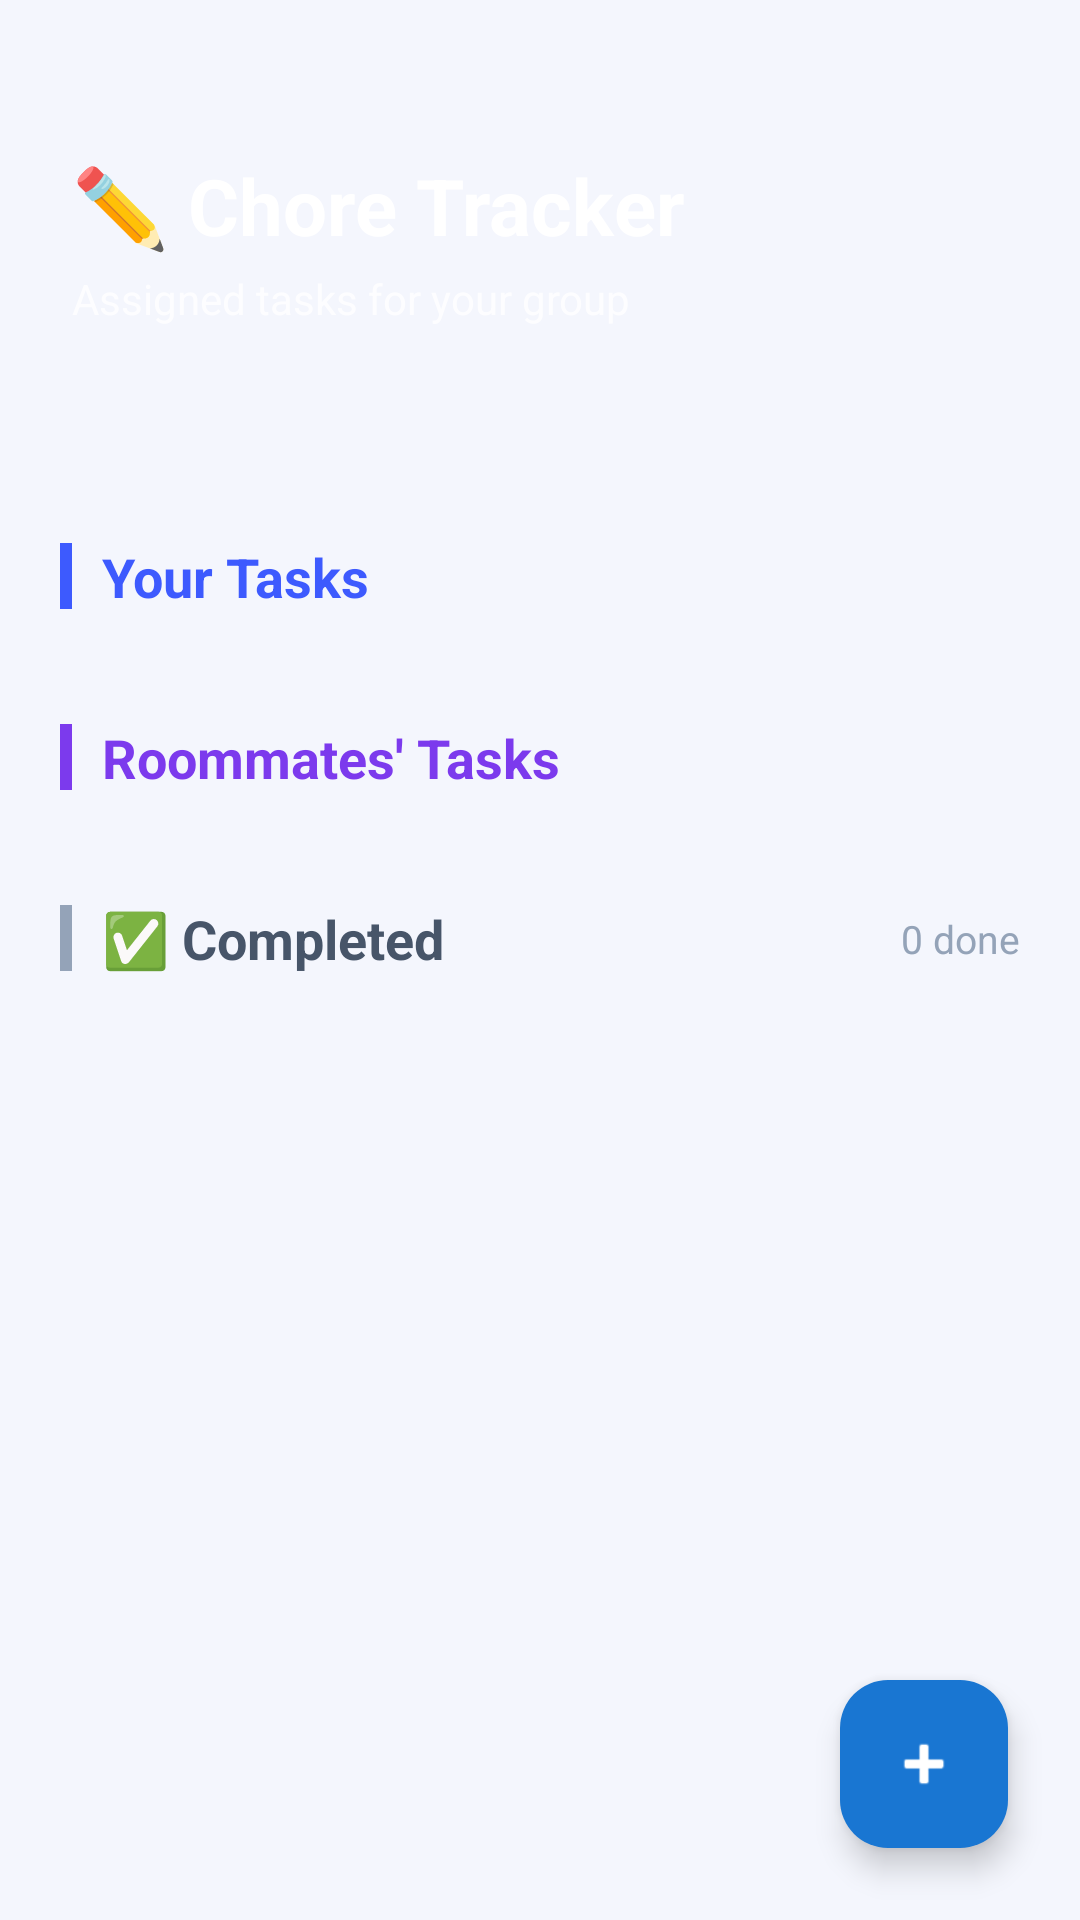

Where icons sit on this 1080 x 1920 app screen, as {"left": x1, "top": y1, "right": x2, "bottom": y2}:
Add Chore: {"left": 840, "top": 1680, "right": 1008, "bottom": 1848}
